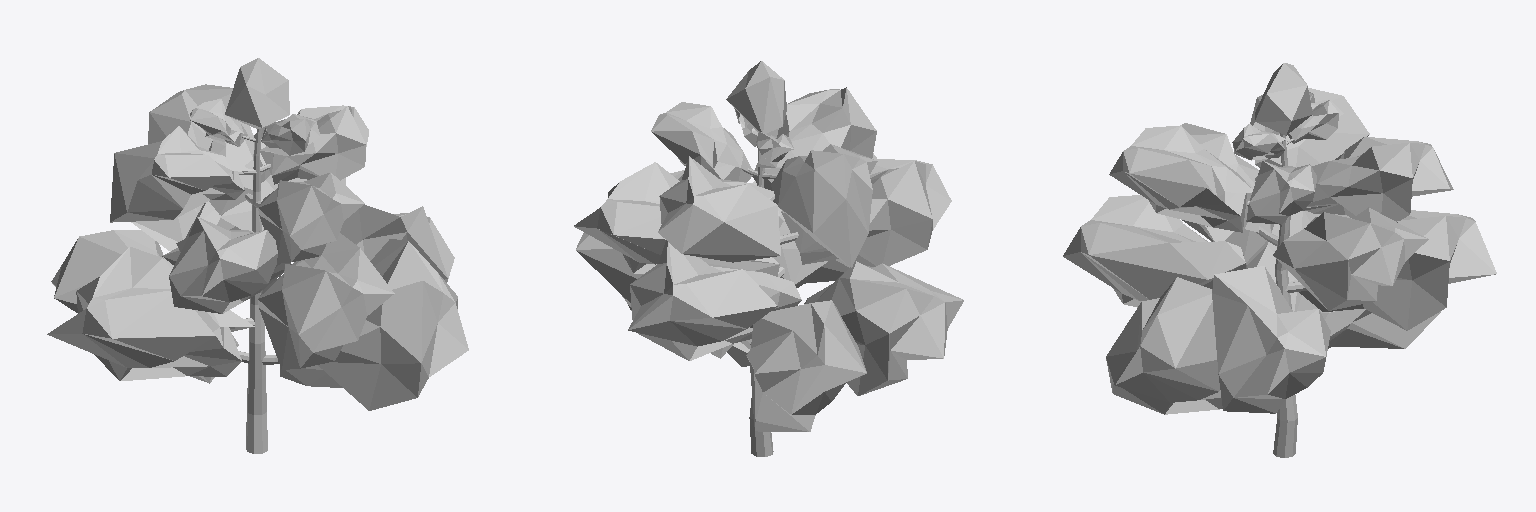
File: tree_full.obj
3 renders of one model, left to right at view 1: azimuth 30°, elevation 25°; view 2: azimuth 150°, elevation 25°; view 3: azimuth 270°, elevation 25°, orthographic.
Parts seen in each view (by area): view 1: Icosphere, Cube_Cube.001; view 2: Icosphere, Cube_Cube.001; view 3: Icosphere, Cube_Cube.001.
Part boxes in pixels (x1,y1,x2,y2): Icosphere: (47,58,468,410); Cube_Cube.001: (229,128,278,453); Icosphere: (574,61,963,431); Cube_Cube.001: (742,167,798,456); Icosphere: (1063,63,1496,414); Cube_Cube.001: (1247,133,1330,457).
Bounding box in the file's own units: 10.97 × 10.65 × 10.71.